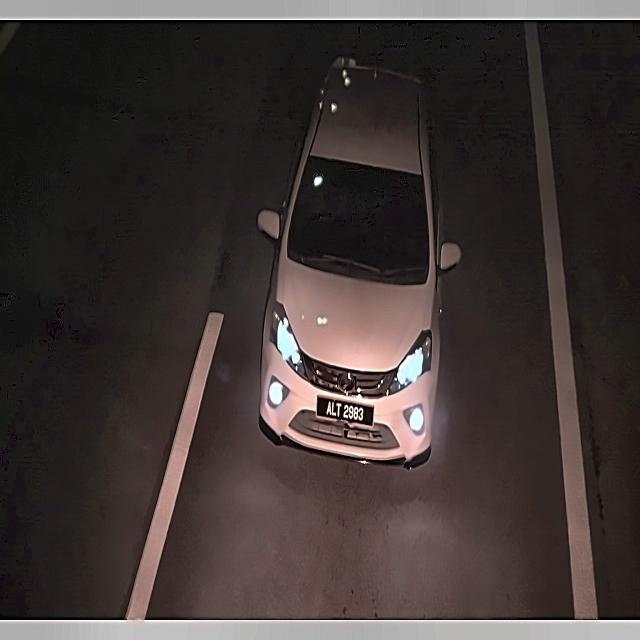car: (311, 383, 382, 438)
